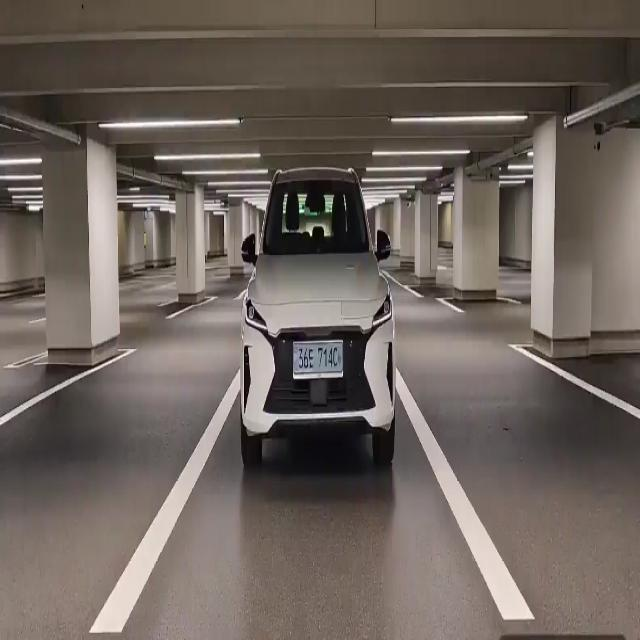car: (293, 343, 344, 380)
carev: (293, 341, 299, 376), (336, 346, 343, 374)
